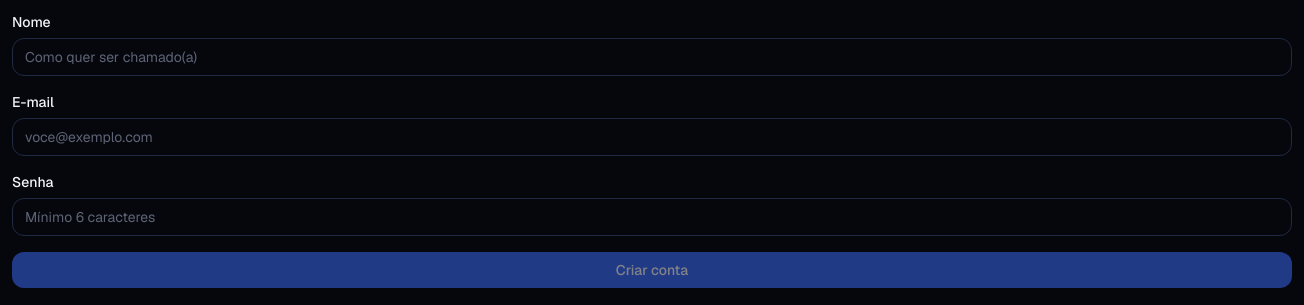
Scenario: SignUpForm › mostra aviso de confirmação de e-mail quando signUp não devolve sessão
Type "Theo" into the field labelled "Nome" at [652, 57], box [12,38,1292,76]
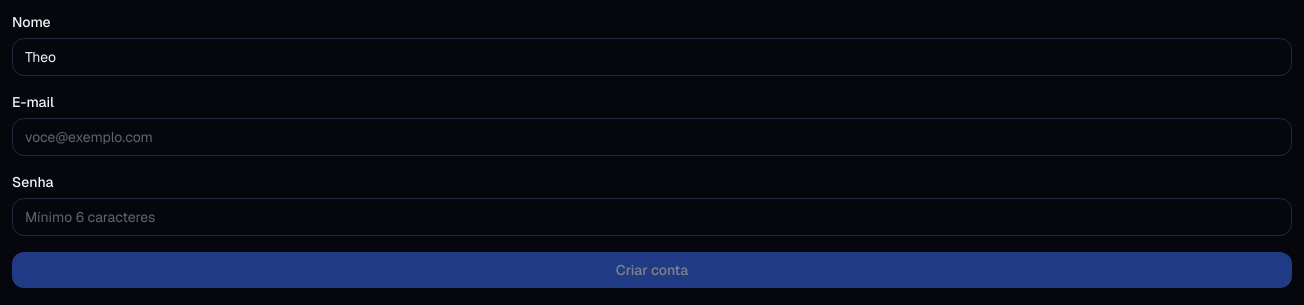
Type "theo@example.com" into the field labelled "E-mail" at [652, 137], box [12,118,1292,156]
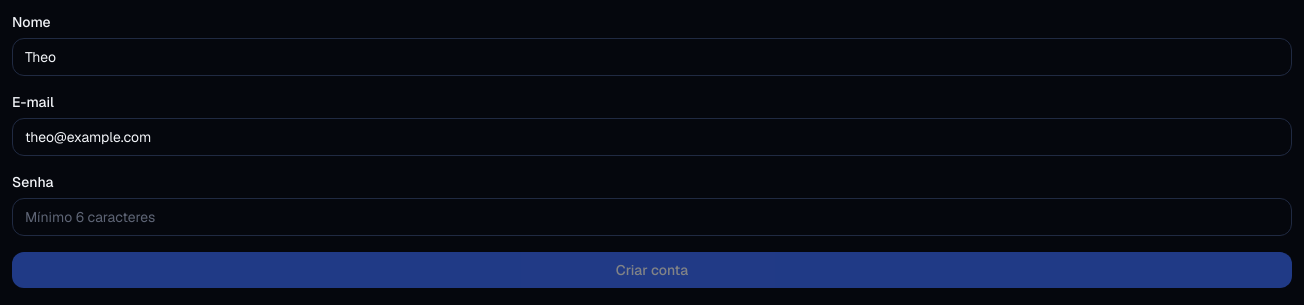
Type "senha-forte" into the password field labelled "Senha" at [652, 217], box [12,198,1292,236]
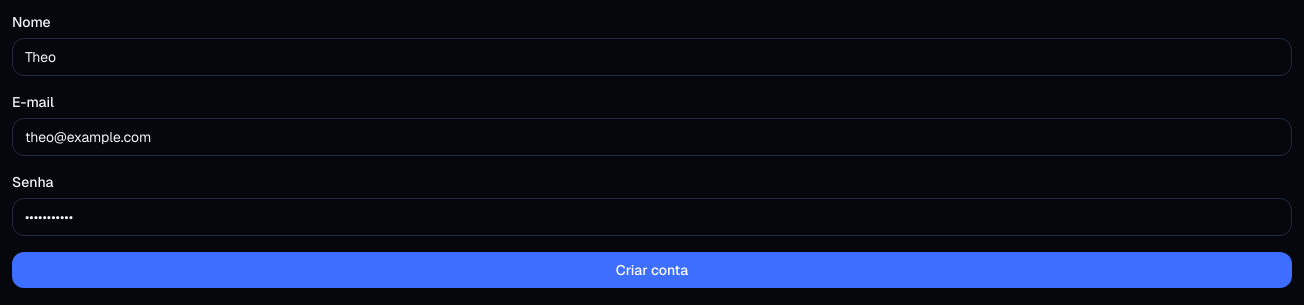
Click the button "Criar conta" at [652, 270], box [12,252,1292,288]
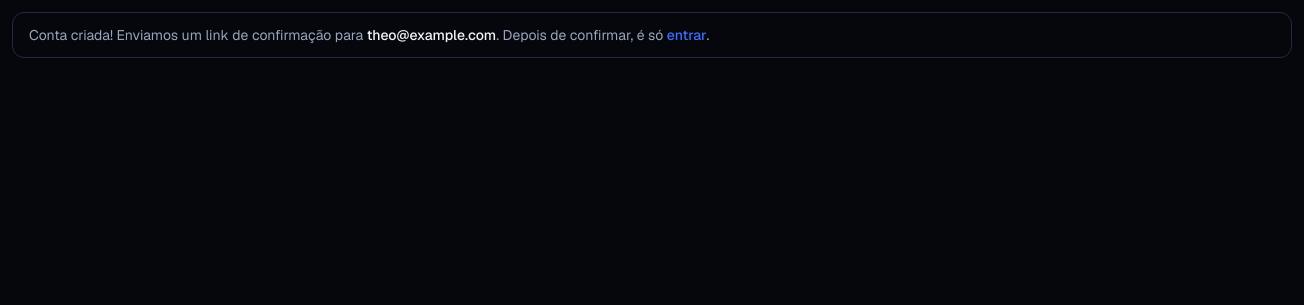
Now the message shows "link de confirmação", box [29,26,363,44]
